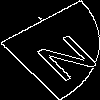N: (24, 25, 100, 84)
